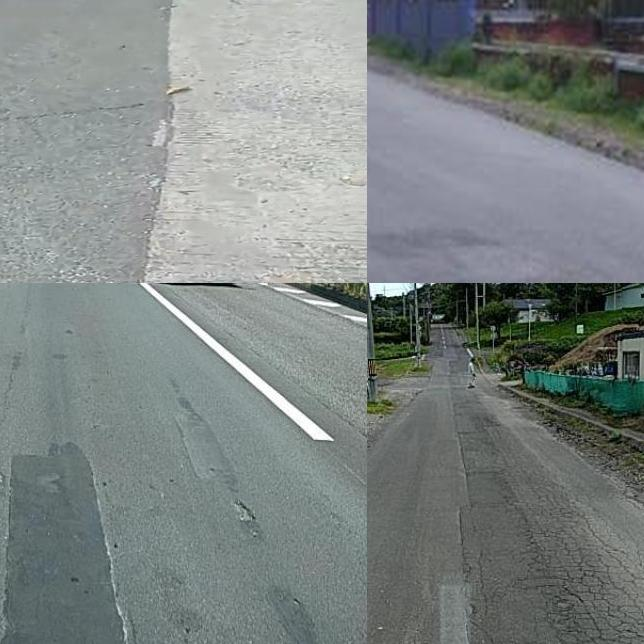Retak Buaya: (527, 510, 644, 644)
Sambungan: (146, 0, 367, 283), (0, 440, 123, 644)
